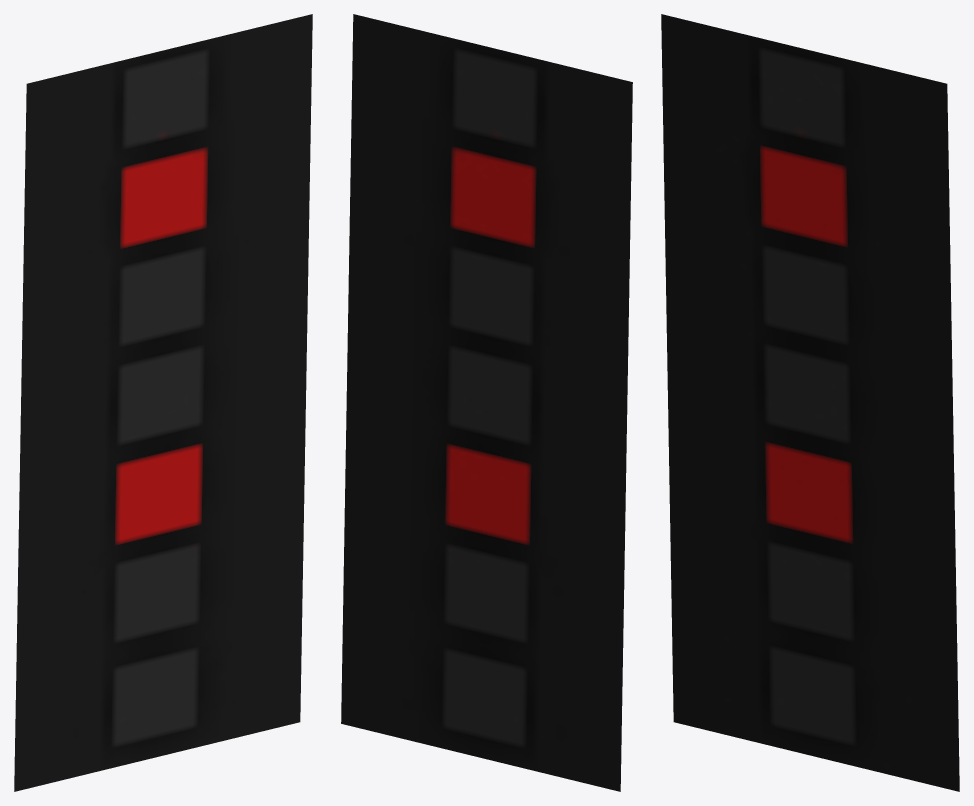
The picture shows the model from 3 angles, left to right: view 1: azimuth 30°, elevation 25°; view 2: azimuth 150°, elevation 25°; view 3: azimuth 330°, elevation 25°; orthographic projection. The views are drawn at different scales.
Visible parts, largest first — view 1: scorebord.001; view 2: scorebord.001; view 3: scorebord.001.
Boxes of the visible parts, x1,y1,x2,y2 form: scorebord.001: (14, 14, 312, 791); scorebord.001: (341, 14, 632, 791); scorebord.001: (661, 14, 959, 791).
Size of the model in its own units: 0.00295 by 0.00706 by 0.000222.
1 material, 1 textured.
